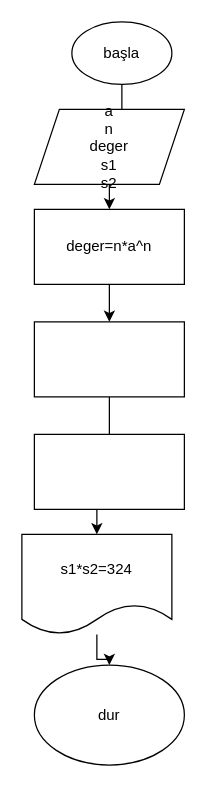
This 206x788 diagram has some shape labels left out. Each missing label, with the centre of its shape:
n=3 a=3 s2=n*a^n s2=81: pixel 108 471
n=4 a=1 s1=n*a^n s1=4: pixel 108 359
